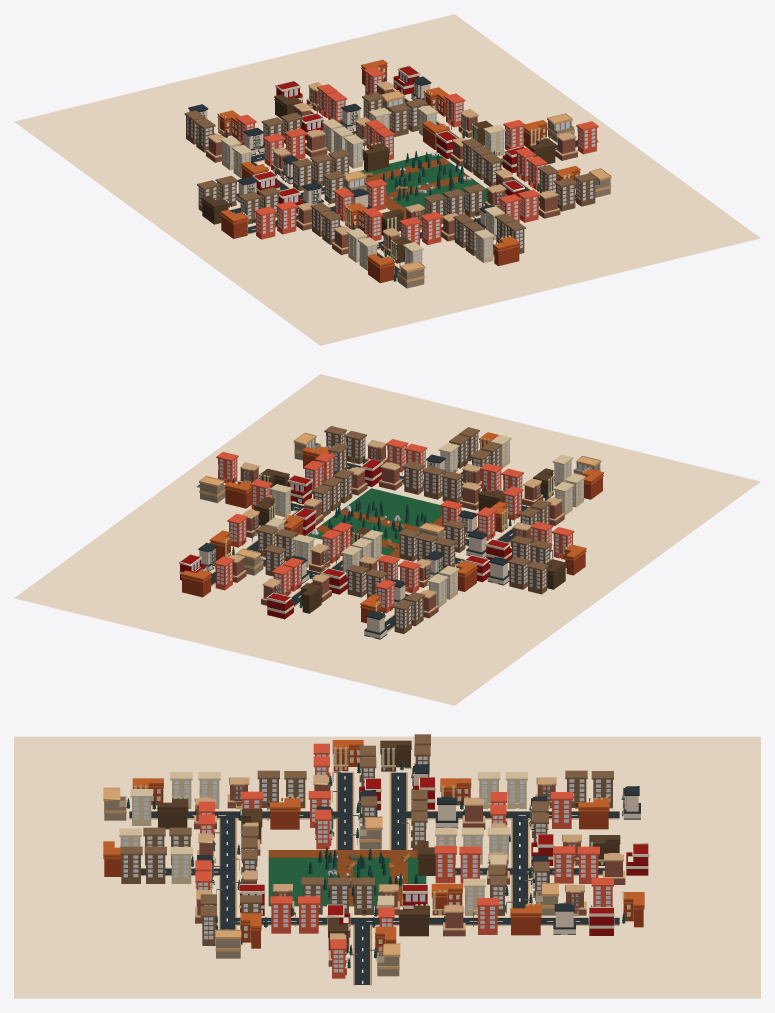
The model's file is NewStreet.fbx.
3 renders of one model, top to bottom at view 1: azimuth 30°, elevation 25°; view 2: azimuth 150°, elevation 25°; view 3: azimuth 270°, elevation 25°, orthographic. The views are drawn at different scales.
Parts seen in each view (by area): view 1: Plane.002, ground, Cube, Plane, house_09.016, house_09.015, house_09.009, house_04.001, house_06.024, house_18.004, house_02.014, house_02.020 (+9 smaller); view 2: Plane.002, ground, Plane, Cube, house_09.019, house_09.022, house_18.009, house_18.007, house_26.008, house_26.001, house_04.002, house_11.007 (+10 smaller); view 3: Plane.002, Plane, ground, Cube, house_09.012, house_09.003, house_09.032, house_06.012, house_06.003, house_06.019, house_02.001, house_09.027 (+58 smaller).
Boxes of the visible parts, left/top/right/bottom form: Plane.002: left=14, top=14, right=760, bottom=345; ground: left=360, top=152, right=487, bottom=214; Cube: left=366, top=158, right=472, bottom=219; Plane: left=213, top=89, right=598, bottom=279; house_09.016: left=220, top=209, right=248, bottom=238; house_09.015: left=367, top=254, right=394, bottom=283; house_09.009: left=493, top=235, right=520, bottom=266; house_04.001: left=397, top=261, right=425, bottom=288; house_06.024: left=363, top=142, right=389, bottom=171; house_18.004: left=574, top=173, right=596, bottom=206; house_02.014: left=420, top=212, right=442, bottom=245; house_02.020: left=254, top=206, right=276, bottom=239; Plane.002: left=14, top=374, right=760, bottom=705; ground: left=307, top=488, right=442, bottom=555; Plane: left=196, top=462, right=555, bottom=631; Cube: left=316, top=509, right=462, bottom=558; house_09.019: left=181, top=570, right=211, bottom=597; house_09.022: left=224, top=481, right=251, bottom=508; house_18.009: left=403, top=461, right=425, bottom=494; house_18.007: left=526, top=561, right=549, bottom=594; house_26.008: left=346, top=564, right=368, bottom=597; house_26.001: left=344, top=431, right=366, bottom=464; house_04.002: left=199, top=476, right=225, bottom=503; house_11.007: left=266, top=592, right=293, bottom=619; Plane.002: left=14, top=736, right=760, bottom=998; Plane: left=129, top=772, right=619, bottom=985; ground: left=268, top=857, right=426, bottom=906; Cube: left=268, top=850, right=417, bottom=905; house_09.012: left=269, top=796, right=300, bottom=829; house_09.003: left=510, top=902, right=541, bottom=935; house_09.032: left=578, top=796, right=609, bottom=829; house_06.012: left=398, top=904, right=429, bottom=936; house_06.003: left=157, top=797, right=188, bottom=829; house_06.019: left=380, top=740, right=411, bottom=771; house_02.001: left=434, top=846, right=456, bottom=883; house_09.027: left=431, top=884, right=462, bottom=915.
Size of the model in its own units: 40567 by 2341 by 48839.
